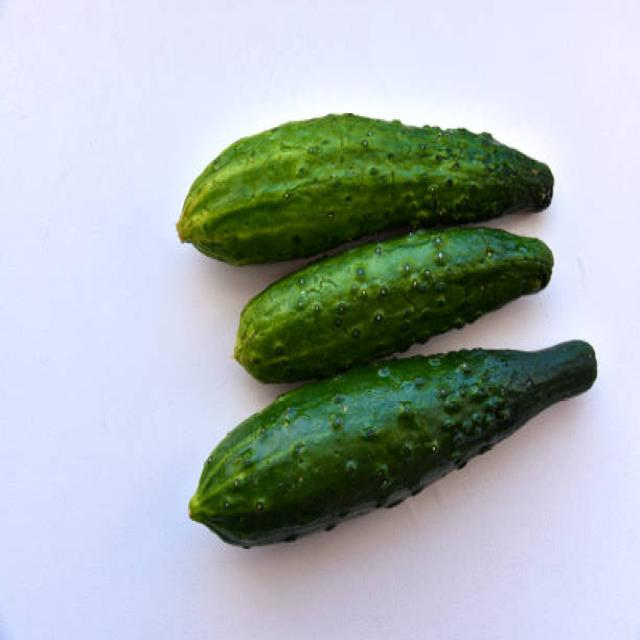cucumber: (198, 339, 598, 549), (185, 113, 553, 268), (239, 225, 553, 385)
